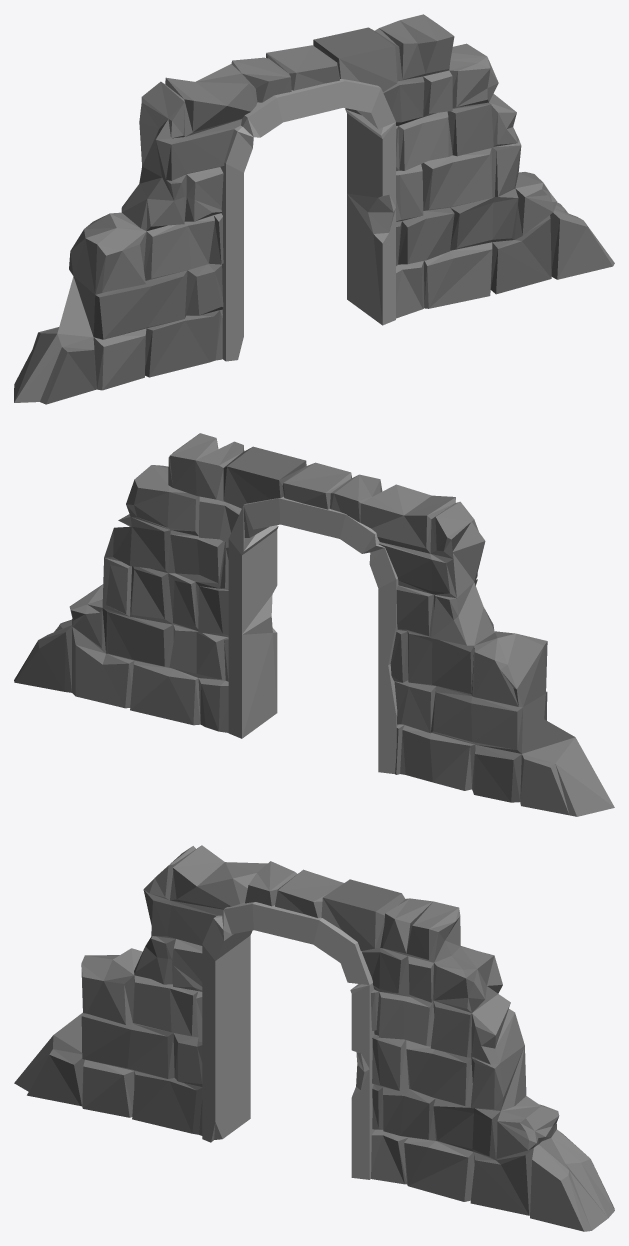
File: _ruin_14.glb
The picture shows the model from 3 angles, top to bottom: view 1: azimuth 30°, elevation 25°; view 2: azimuth 150°, elevation 25°; view 3: azimuth 330°, elevation 25°; orthographic projection.
Parts seen in each view (by area): view 1: ruin_14; view 2: ruin_14; view 3: ruin_14.
Boxes of the visible parts, x1,y1,x2,y2 form: ruin_14: [14, 14, 614, 404]; ruin_14: [14, 433, 614, 816]; ruin_14: [14, 845, 614, 1231].
Size of the model in its own units: 5.84 by 2.54 by 0.6242.
Materials: 1 (1 with a texture image).
